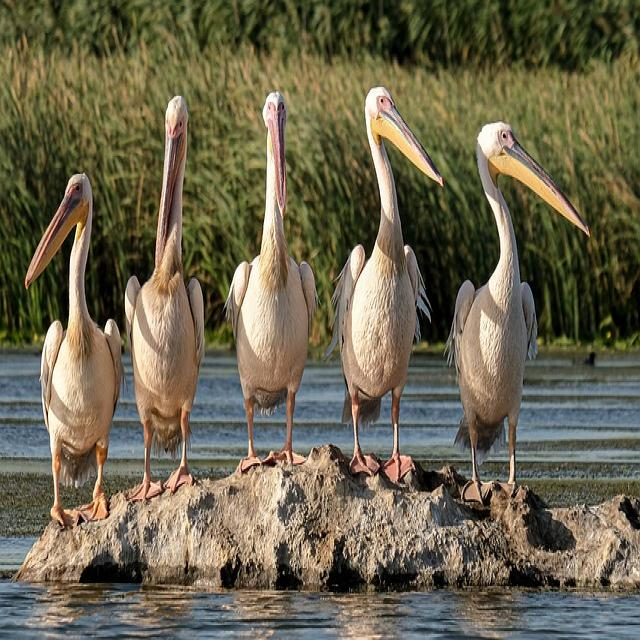Carnivorous: (451, 123, 585, 484), (338, 88, 440, 477), (123, 94, 209, 502), (24, 174, 121, 526), (228, 93, 318, 471)
